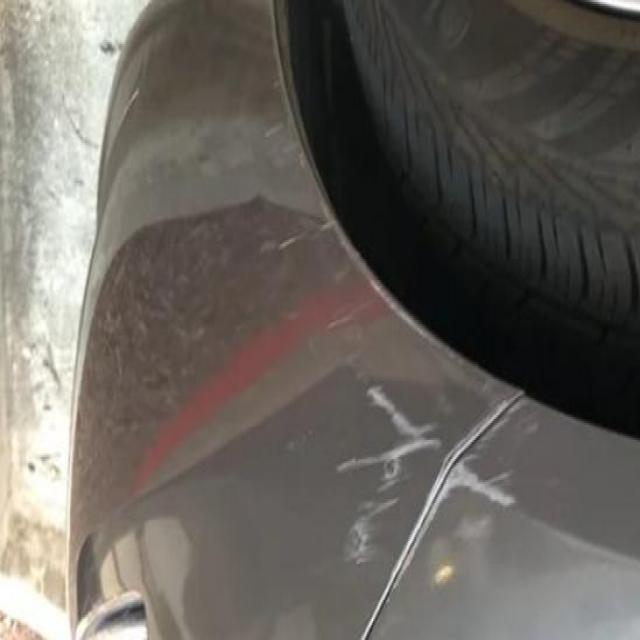scratch: (326, 374, 523, 574)
